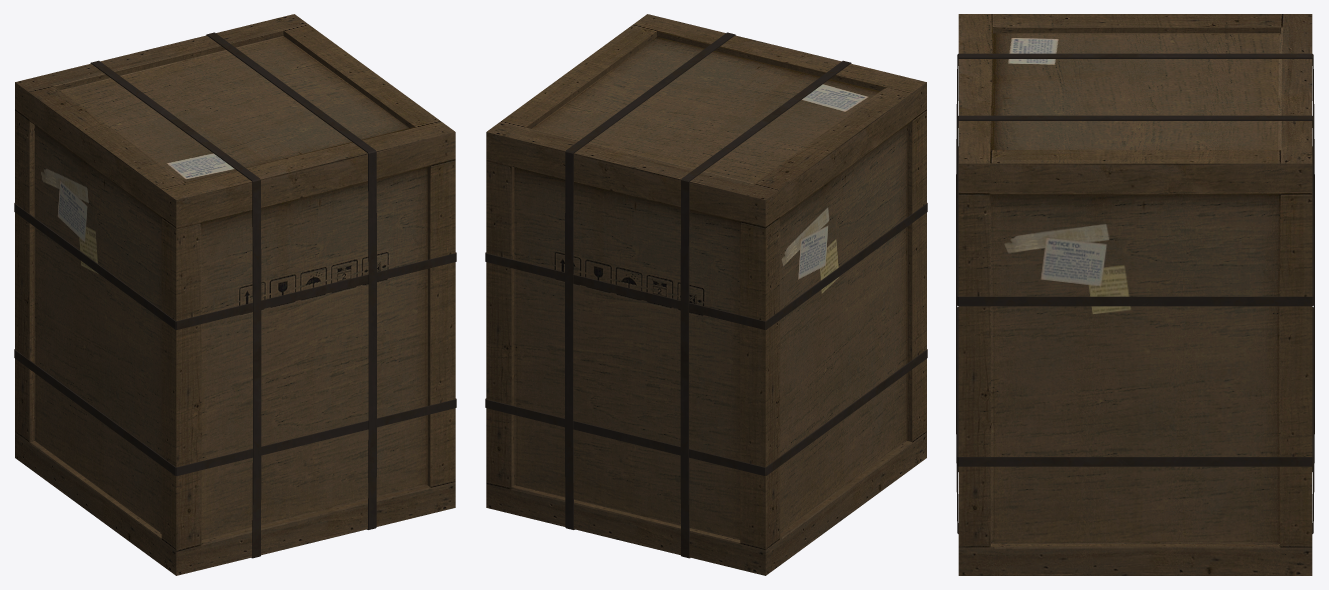
The model's file is wooden_crate_hx_1_1.dae.
The picture shows the model from 3 angles, left to right: view 1: azimuth 30°, elevation 25°; view 2: azimuth 150°, elevation 25°; view 3: azimuth 270°, elevation 25°; orthographic projection. The views are drawn at different scales.
Parts seen in each view (by area): view 1: wooden_crate_hx_1_1; view 2: wooden_crate_hx_1_1; view 3: wooden_crate_hx_1_1.
Boxes of the visible parts, left/top/right/bottom form: wooden_crate_hx_1_1: left=14, top=14, right=456, bottom=575; wooden_crate_hx_1_1: left=485, top=14, right=927, bottom=575; wooden_crate_hx_1_1: left=956, top=14, right=1314, bottom=575.
Size of the model in its own units: 1.41 by 1.42 by 1.81.
2 materials, 2 textured.
